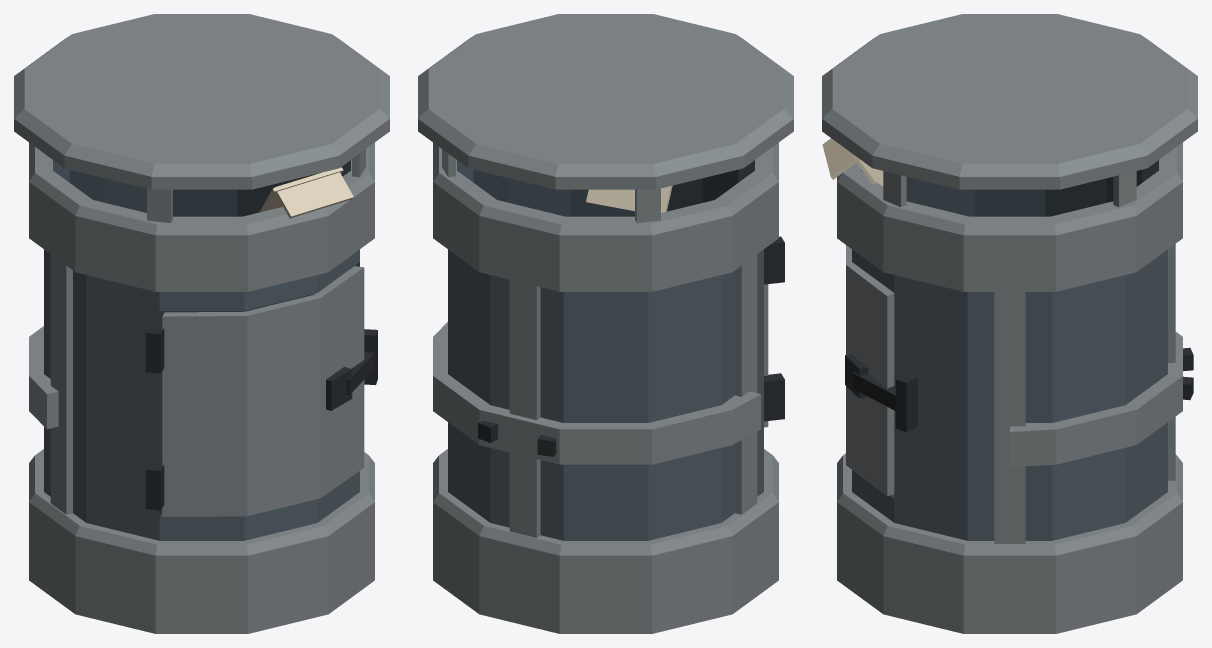
The model's file is ground-litter-bin-aaaba0.glb.
3 renders of one model, left to right at view 1: azimuth 30°, elevation 25°; view 2: azimuth 150°, elevation 25°; view 3: azimuth 270°, elevation 25°, orthographic.
Visible parts, largest first — view 1: bin-body, door-leaf, programme-flap; view 2: bin-body; view 3: bin-body, door-leaf, programme-flap.
Part boxes in pixels (x1,y1,x2,y2): bin-body: (14, 14, 389, 633); door-leaf: (162, 266, 374, 516); programme-flap: (274, 170, 353, 218); bin-body: (418, 14, 793, 633); bin-body: (822, 14, 1197, 633); door-leaf: (845, 245, 895, 496); programme-flap: (822, 138, 859, 179).
Size of the model in its own units: 0.483 by 0.669 by 0.483.
